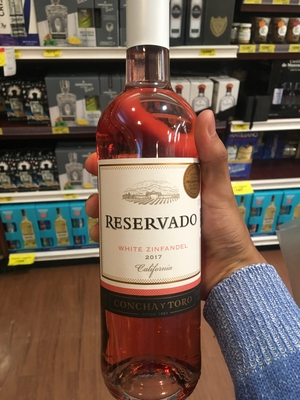reservado white zinfandel: (90, 8, 217, 371)
